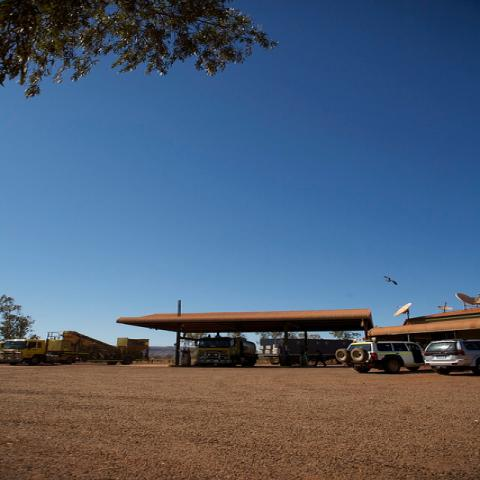car: (420, 338, 479, 376)
truck: (336, 338, 425, 373), (0, 338, 90, 366), (258, 338, 351, 365), (418, 335, 478, 374), (195, 336, 260, 368)
